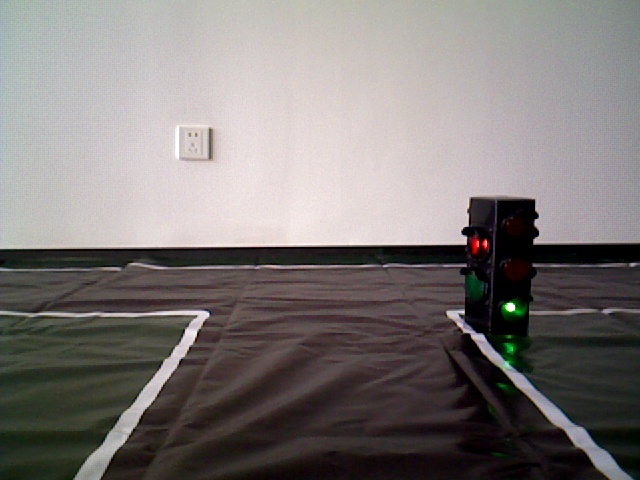green: (470, 195, 530, 331)
